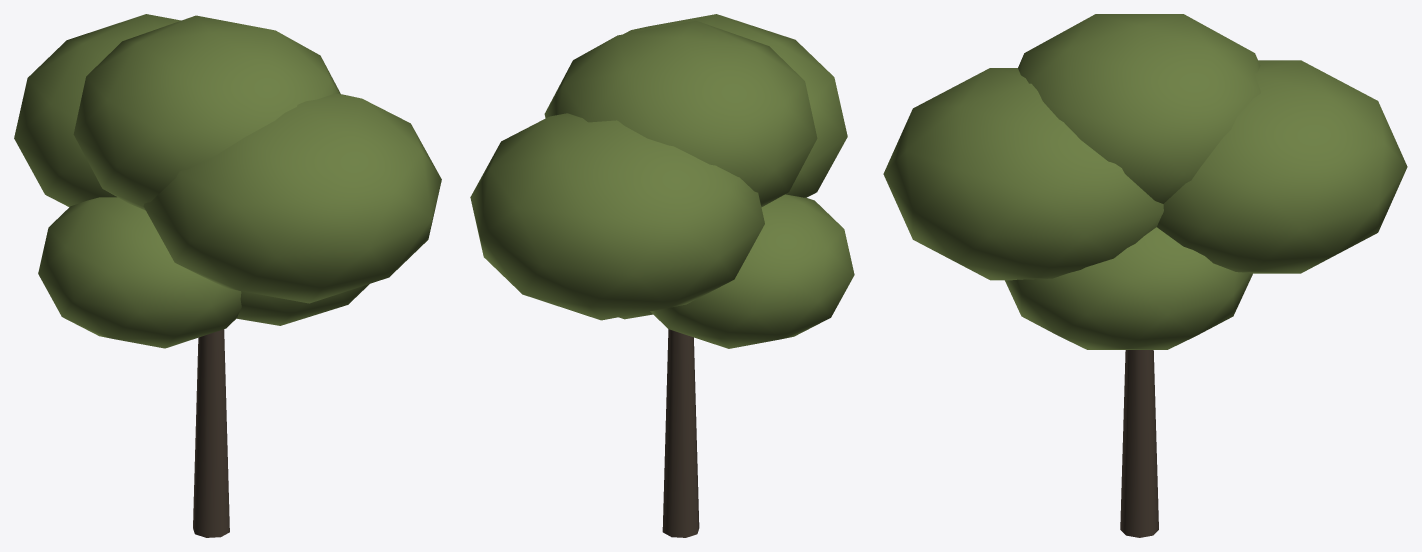
File: Tree_Broadleaf_B.fbx
The picture shows the model from 3 angles, left to right: view 1: azimuth 30°, elevation 25°; view 2: azimuth 150°, elevation 25°; view 3: azimuth 270°, elevation 25°; orthographic projection. The views are drawn at different scales.
Visible parts, largest first — view 1: Tree_Broadleaf_B; view 2: Tree_Broadleaf_B; view 3: Tree_Broadleaf_B.
Part boxes in pixels (x1,y1,x2,y2): Tree_Broadleaf_B: [14, 14, 441, 537]; Tree_Broadleaf_B: [470, 14, 854, 537]; Tree_Broadleaf_B: [883, 14, 1407, 537].
Bounding box in the file's own units: 6.41 × 9.74 × 9.19.
